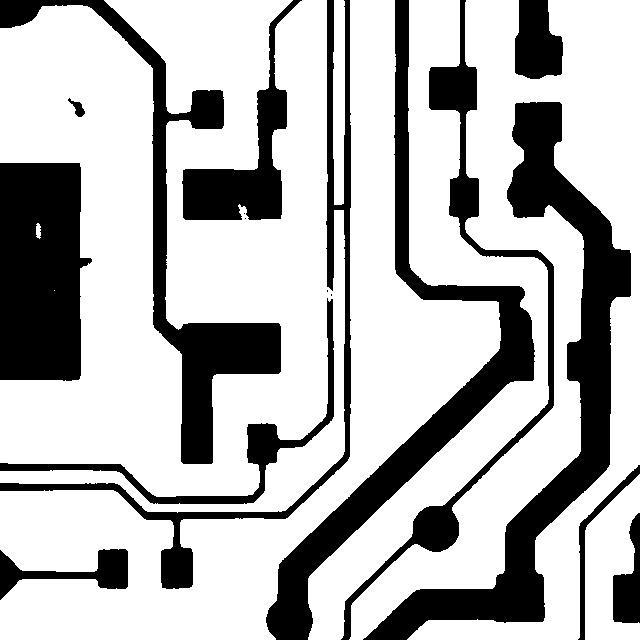copper: (58, 88, 94, 126)
mousebite: (228, 194, 259, 232)
open: (312, 277, 344, 311)
pin-hole: (26, 213, 50, 248)
short: (319, 194, 355, 219)
spur: (64, 248, 101, 277)
